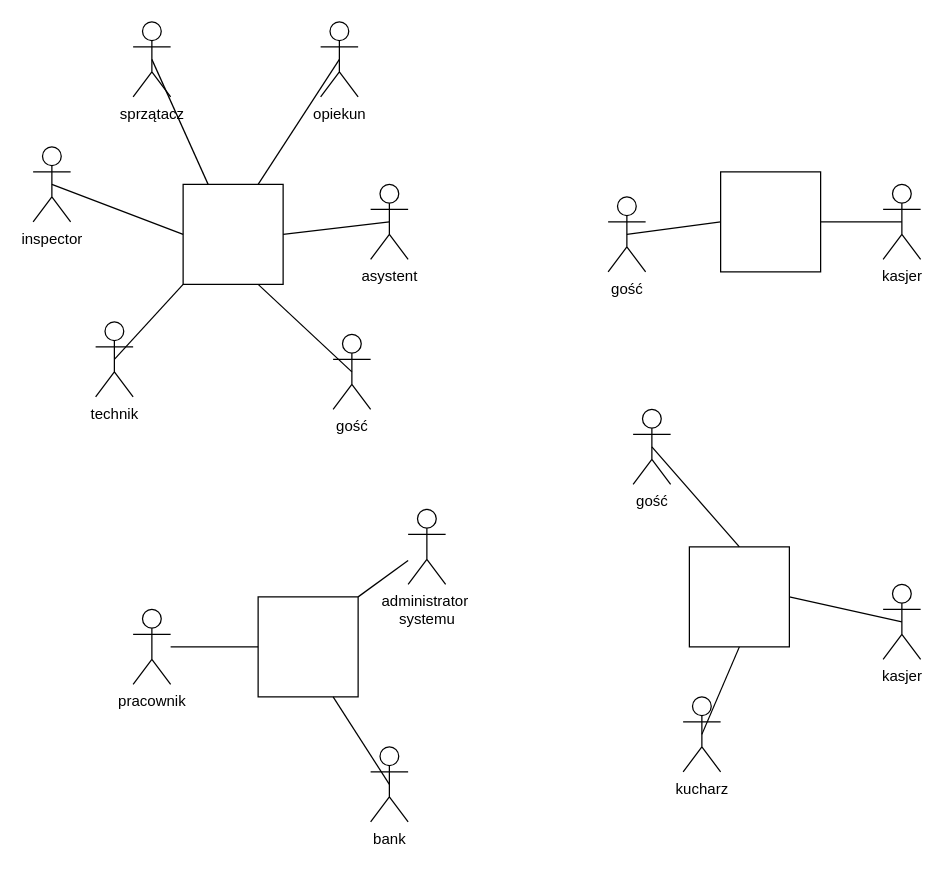
Some shapes in this 944 by 870 pixel diagram are drawn without their labels. Each missing label, with the centre of its shape:
"atrakcja" goes at (232,233).
"kafeteria" goes at (738,596).
"kasa" goes at (770,221).
"system pracowników" goes at (307,646).
